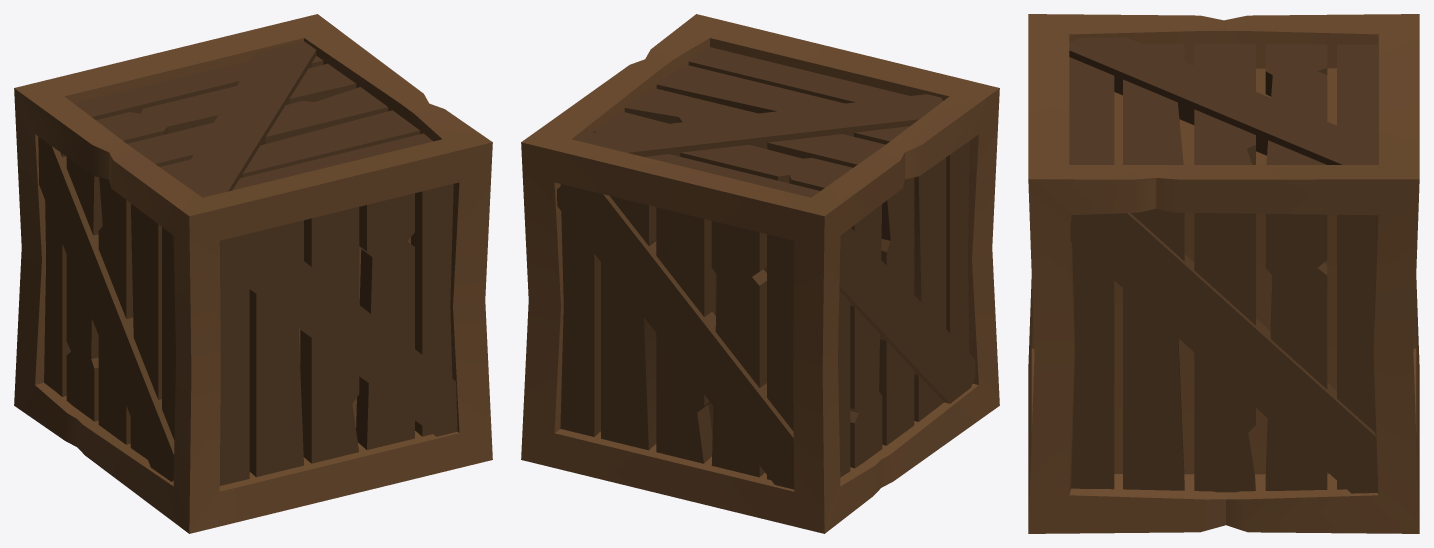
The model's file is Crate.glb.
The picture shows the model from 3 angles, left to right: view 1: azimuth 30°, elevation 25°; view 2: azimuth 150°, elevation 25°; view 3: azimuth 270°, elevation 25°; orthographic projection. The views are drawn at different scales.
Parts seen in each view (by area): view 1: Crate; view 2: Crate; view 3: Crate.
Part boxes in pixels (<box>): Crate: <box>14,14,492,533</box>; Crate: <box>521,14,999,533</box>; Crate: <box>1028,14,1419,533</box>.
Size of the model in its own units: 0.1602 by 0.1602 by 0.1602.
